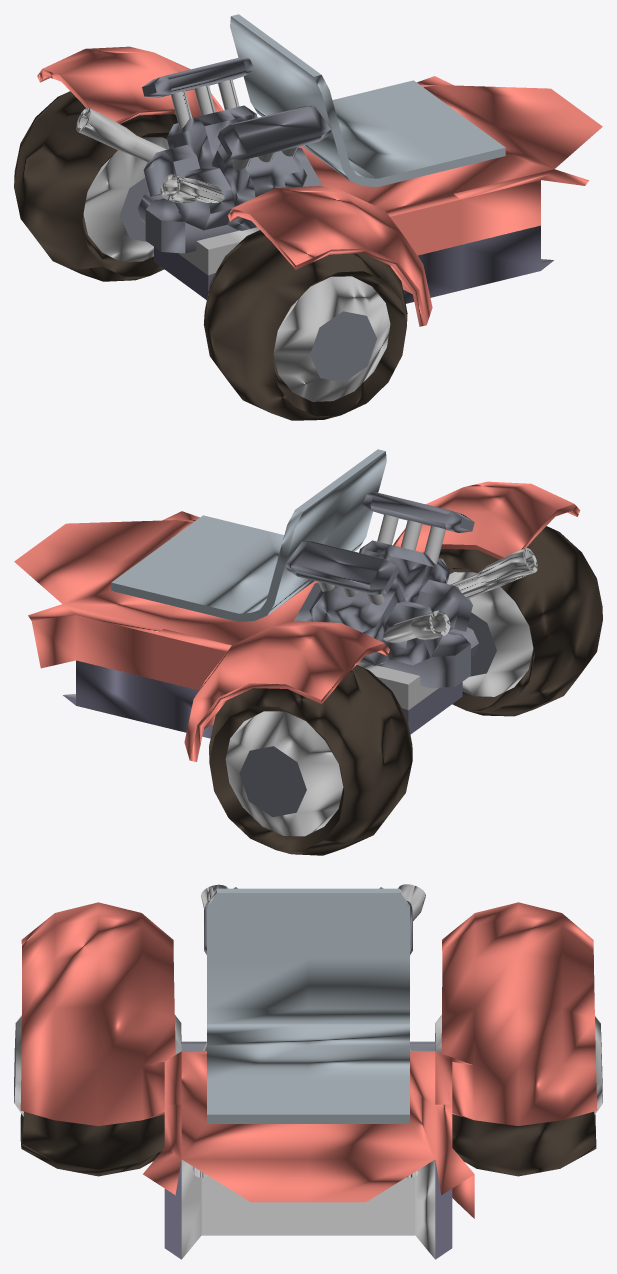
The model's file is rainbow-atomic-karts-b0e357.glb.
3 views of the same model, one above another, from view 1: azimuth 30°, elevation 25°; view 2: azimuth 150°, elevation 25°; view 3: azimuth 270°, elevation 25° (orthographic). The views are drawn at different scales.
Parts seen in each view (by area): view 1: PropMesh; view 2: PropMesh; view 3: PropMesh.
Part boxes in pixels (x1=…): PropMesh: x1=14, y1=14, x2=602, y2=420; PropMesh: x1=14, y1=449, x2=602, y2=855; PropMesh: x1=14, y1=884, x2=602, y2=1259.
Size of the model in its own units: 1.58 by 0.9304 by 1.6.
